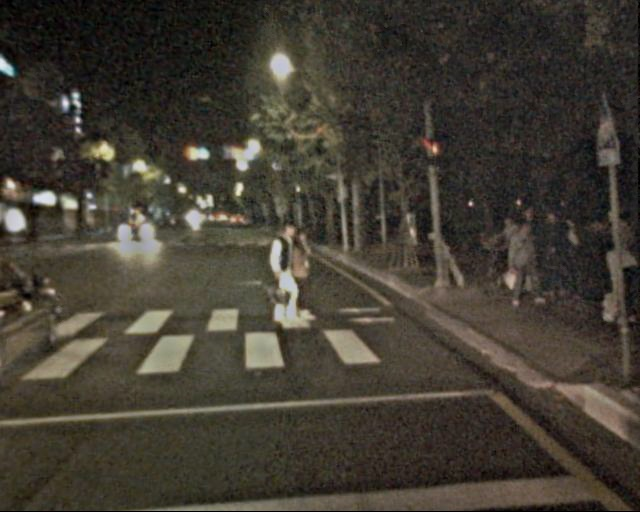person: (263, 219, 309, 330), (506, 209, 561, 295), (596, 231, 637, 330), (283, 228, 322, 324), (548, 213, 585, 304), (507, 221, 543, 308)
